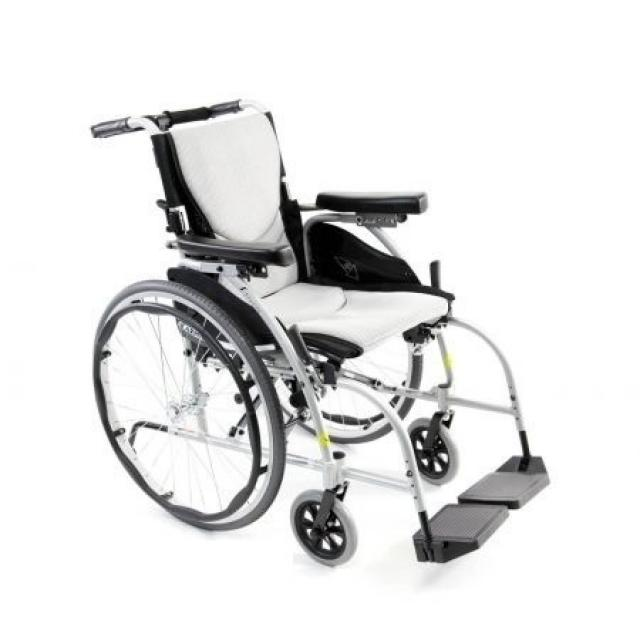wheelchair: (54, 73, 578, 591)
